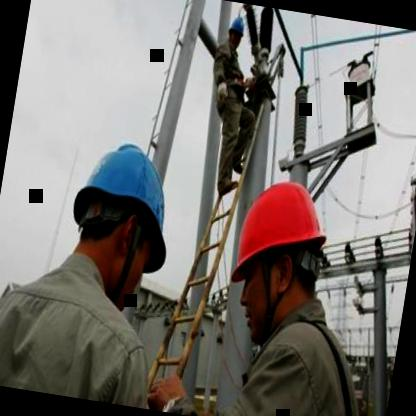helmet: (49, 118, 198, 314), (211, 158, 345, 348), (224, 10, 248, 52)
